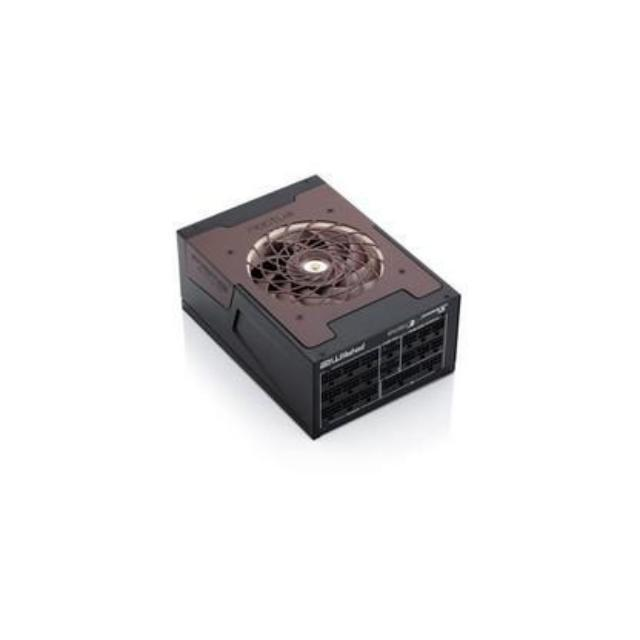PSU: (160, 152, 472, 450)
